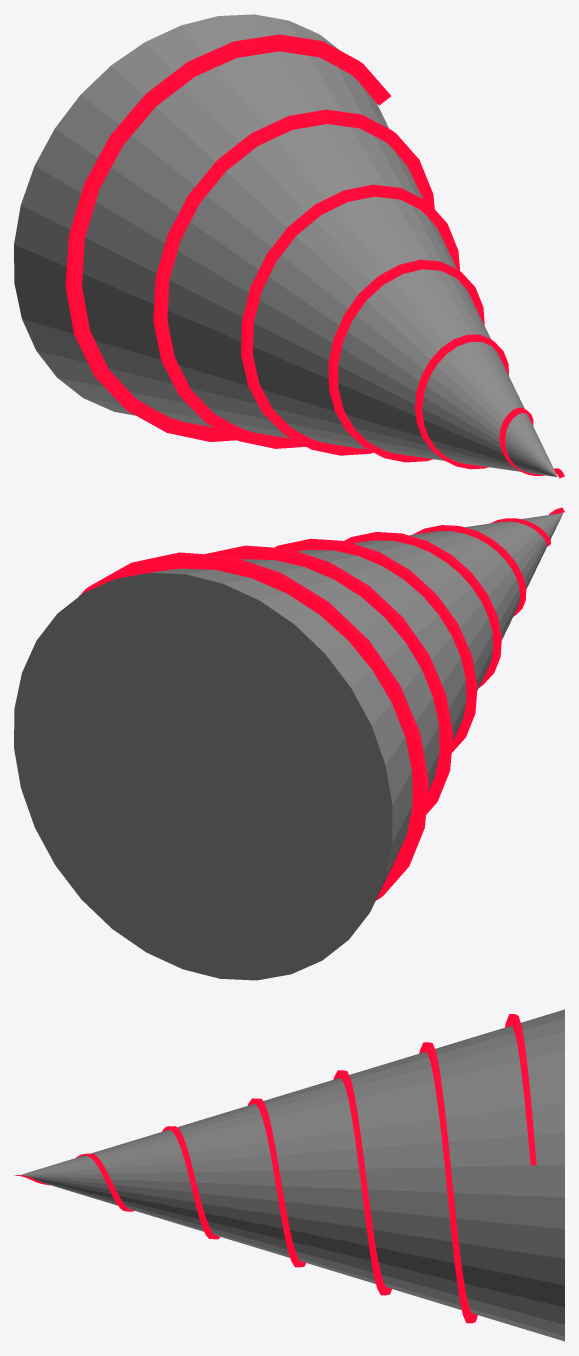
Rendered from modeldrill_head.fbx.
3 renders of one model, top to bottom at view 1: azimuth 30°, elevation 25°; view 2: azimuth 150°, elevation 25°; view 3: azimuth 270°, elevation 25°, orthographic. The views are drawn at different scales.
Parts seen in each view (by area): view 1: drill_cone, edge_spiral; view 2: drill_cone, edge_spiral; view 3: drill_cone, edge_spiral.
Part boxes in pixels (x1,y1,x2,y2): drill_cone: (14, 14, 557, 476); edge_spiral: (65, 34, 564, 478); drill_cone: (14, 513, 563, 980); edge_spiral: (78, 507, 564, 900); drill_cone: (20, 1009, 564, 1341); edge_spiral: (14, 1014, 536, 1323).
Size of the model in its own units: 280 by 280 by 466.
